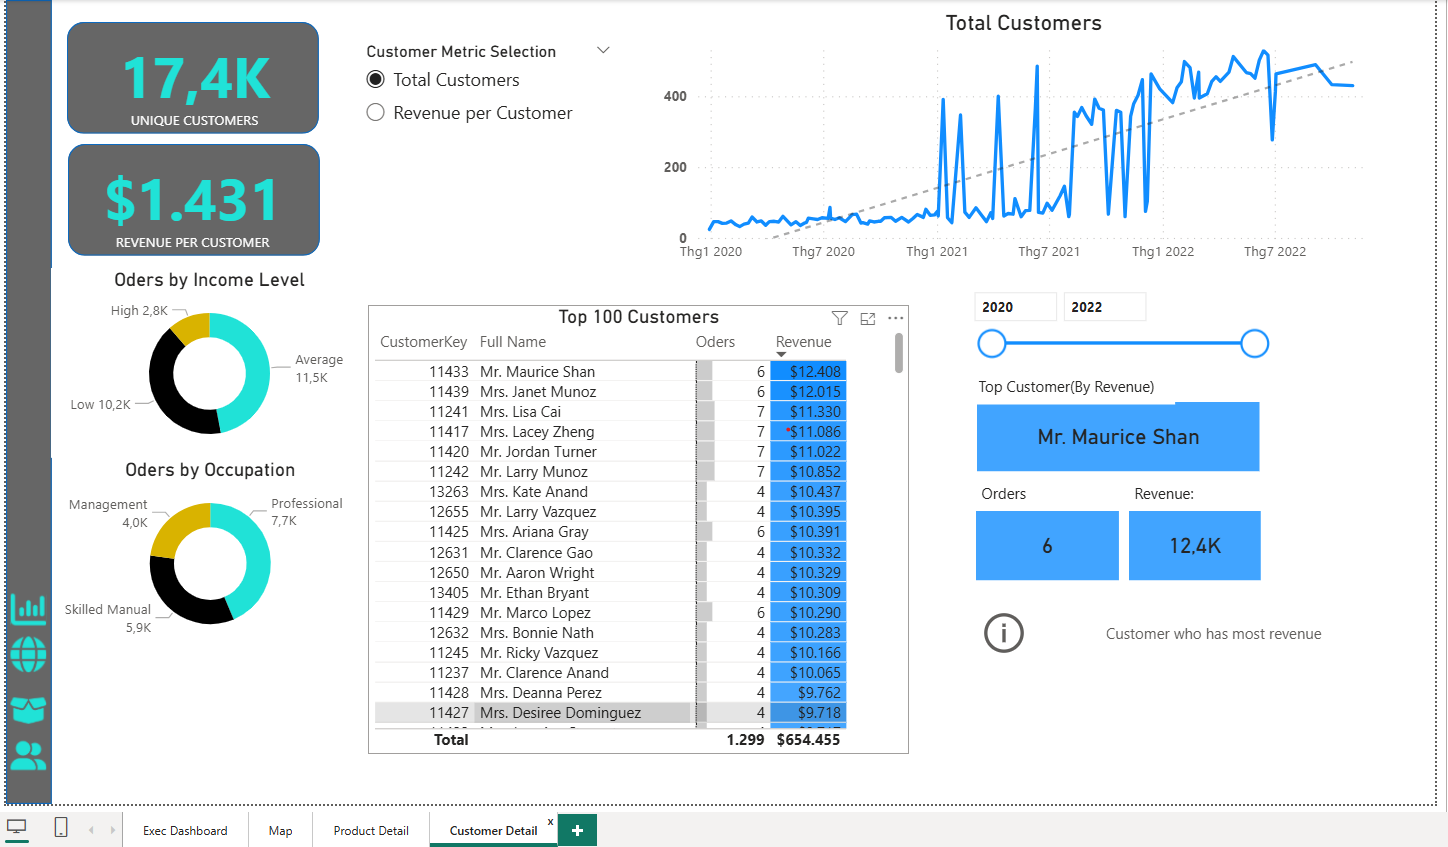

This screenshot's page, from the dashboard's own definition file:
{"tool":"powerbi","page":{"name":"Customer Detail","canvas":[1280,720],"ordinal":3},"visuals":[{"type":"shape","box":[0,0,41,720],"z":0},{"type":"shape","box":[55.1,128.8,225.6,100],"z":1000},{"type":"shape","box":[54.8,19.3,225.6,100],"z":2000},{"type":"card","fields":{"Values":["Measure Table.Total Customers"]},"box":[57,14.9,223.3,118.9],"z":3000},{"type":"card","fields":{"Values":["Measure Table.Average Reverue per Customer"]},"box":[55.1,124.3,223.3,118.9],"z":4000},{"type":"lineChart","fields":{"Y":["Measure Table.Total Customers"],"Category":["Calendar Lookup.Date Hierarchy.Start of Year","Calendar Lookup.Date Hierarchy.Start of Month","Calendar Lookup.Date Hierarchy.Start of Week","Calendar Lookup.Date Hierarchy.Date"]},"box":[584.2,6.3,655.1,236.8],"z":5000},{"type":"donutChart","title":" Oders by Income Level","fields":{"Category":["Customer Lookup.Income Level"],"Y":["Measure Table.Total Oders"]},"box":[39.9,240.2,283.9,170],"z":6000},{"type":"donutChart","title":" Oders by Occupation","fields":{"Y":["Measure Table.Total Oders"],"Category":["Customer Lookup.Occupation"]},"box":[41.2,410.3,283.5,170.1],"z":7000},{"type":"tableEx","title":"Top 100 Customers","fields":{"Values":["Customer Lookup.CustomerKey","Customer Lookup.Full Name","Measure Table.Total Oders","Measure Table.Total Revenue"]},"box":[324.2,273.4,484.9,402.1],"z":8000},{"type":"card","fields":{"Values":["Measure Table.Full Name (Customer Detail)"]},"box":[870,360.2,253.4,61.9],"z":9000},{"type":"textbox","box":[866,332.2,180.6,29.9],"z":10000},{"type":"textbox","box":[1005.6,428,89.8,29.9],"z":11000},{"type":"textbox","box":[869,428,90.8,29.9],"z":12000},{"type":"card","fields":{"Values":["Measure Table.Total Ỏders (Customer Detail)"]},"box":[869,457.9,127.7,61.9],"z":13000},{"type":"card","fields":{"Values":["Measure Table.Total Revenue (Customer Detail)"]},"box":[1005.6,457.9,117.7,61.9],"z":14000},{"type":"slicer","fields":{"Values":["Calendar Lookup.Start of Month.Variation.Date Hierarchy.Year"]},"box":[854.6,251.6,284.9,74.1],"z":15000},{"type":"actionButton","box":[870.4,543.6,311.6,46.6],"z":16000},{"type":"actionButton","box":[0,525.7,41.2,40.3],"z":17000},{"type":"actionButton","box":[0,616.1,41.2,40.3],"z":18000},{"type":"actionButton","box":[0,566,41.2,40.3],"z":19000},{"type":"actionButton","box":[0,656.4,41.2,40.3],"z":20000},{"type":"slicer","fields":{"Values":["Customer Metric Selection.Customer Metric Selection"]},"box":[309.8,33.4,244.1,145],"z":21000}]}

Visuals, with their boxes on the page's 1280x720 design canvas (x1, y1, x2, y2). These are canvas units, not pixel positions in the 1448x847 screenshot, which may show the page scaled, cropped or inside an application window:
shape: region(0, 0, 41, 720)
shape: region(55, 129, 281, 229)
shape: region(55, 19, 280, 119)
card - Measure Table.Total Customers: region(57, 15, 280, 134)
card - Measure Table.Average Reverue per Customer: region(55, 124, 278, 243)
lineChart - Measure Table.Total Customers x Calendar Lookup.Date Hierarchy.Start of Year: region(584, 6, 1239, 243)
" Oders by Income Level" donutChart: region(40, 240, 324, 410)
" Oders by Occupation" donutChart: region(41, 410, 325, 580)
"Top 100 Customers" tableEx: region(324, 273, 809, 676)
card - Measure Table.Full Name (Customer Detail): region(870, 360, 1123, 422)
textbox: region(866, 332, 1047, 362)
textbox: region(1006, 428, 1095, 458)
textbox: region(869, 428, 960, 458)
card - Measure Table.Total Ỏders (Customer Detail): region(869, 458, 997, 520)
card - Measure Table.Total Revenue (Customer Detail): region(1006, 458, 1123, 520)
slicer - Calendar Lookup.Start of Month.Variation.Date Hierarchy.Year: region(855, 252, 1140, 326)
actionButton: region(870, 544, 1182, 590)
actionButton: region(0, 526, 41, 566)
actionButton: region(0, 616, 41, 656)
actionButton: region(0, 566, 41, 606)
actionButton: region(0, 656, 41, 697)
slicer - Customer Metric Selection.Customer Metric Selection: region(310, 33, 554, 178)
